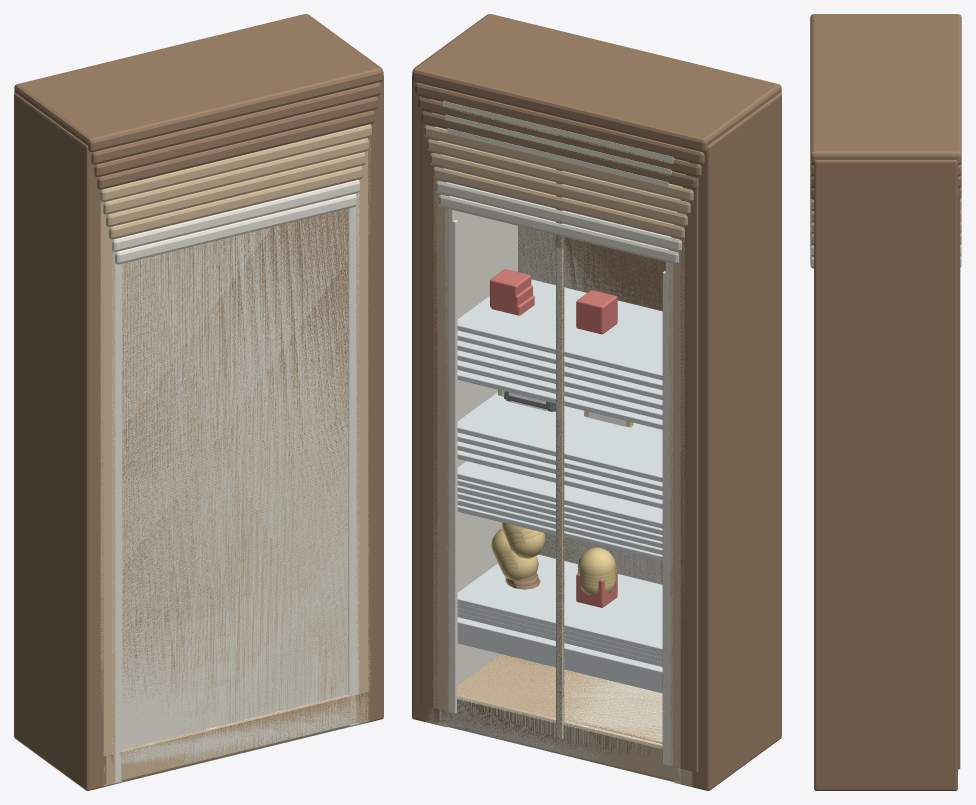
Rendered from Gear18.fbx.
The picture shows the model from 3 angles, left to right: view 1: azimuth 30°, elevation 25°; view 2: azimuth 150°, elevation 25°; view 3: azimuth 270°, elevation 25°; orthographic projection. The views are drawn at different scales.
Parts seen in each view (by area): view 1: Gear18_V1_Ivory, Gear18_V10_Walnut, Gear18_V5_Oak, Gear18_V2_Ivory, Gear18_V8_Walnut, Gear18_V4_Oak, Gear18_V7_Walnut, Gear18_V3_Oak, Gear18_V9_Walnut, Gear18_V6_Oak; view 2: Gear18_V10_Walnut, Gear18_V1_Ivory, Gear18_V2_Ivory, Gear18_V3_Oak, Gear18_V4_Acrylic, Gear18_V10_Acrylic, Gear18_V8_Walnut, Gear18_V9_Walnut, Gear18_V5_Oak, Gear18_V7_Walnut, Gear18_V6_Oak, Gear18_V4_Oak (+14 smaller); view 3: Gear18_V10_Walnut.
Boxes of the visible parts, x1,y1,x2,y2 form: Gear18_V1_Ivory: (115, 193, 356, 784); Gear18_V10_Walnut: (14, 14, 383, 790); Gear18_V5_Oak: (103, 138, 368, 787); Gear18_V2_Ivory: (112, 179, 359, 784); Gear18_V8_Walnut: (94, 96, 377, 788); Gear18_V4_Oak: (106, 152, 365, 786); Gear18_V7_Walnut: (97, 110, 374, 787); Gear18_V3_Oak: (109, 166, 362, 785); Gear18_V9_Walnut: (91, 82, 380, 789); Gear18_V6_Oak: (100, 124, 371, 787); Gear18_V10_Walnut: (412, 14, 781, 790); Gear18_V1_Ivory: (439, 194, 680, 783); Gear18_V2_Ivory: (436, 181, 681, 784); Gear18_V3_Oak: (433, 167, 686, 785); Gear18_V4_Acrylic: (457, 392, 662, 653); Gear18_V10_Acrylic: (457, 279, 662, 676); Gear18_V8_Walnut: (418, 96, 701, 787); Gear18_V9_Walnut: (415, 82, 704, 789); Gear18_V5_Oak: (427, 139, 692, 786); Gear18_V7_Walnut: (421, 111, 698, 788); Gear18_V6_Oak: (424, 125, 693, 786); Gear18_V4_Oak: (430, 153, 689, 786); Gear18_V10_Walnut: (810, 14, 961, 790).
Bounding box in the file's own units: 88.75 × 186 × 40.
